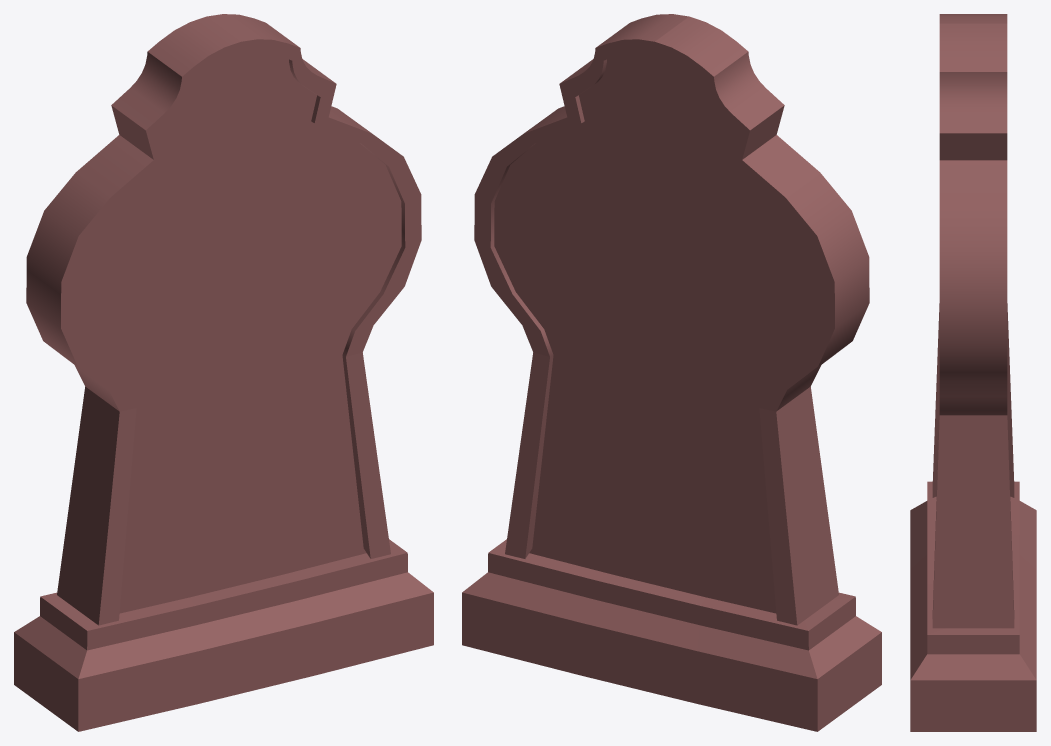
File: MOD_TombStone3.fbx
3 renders of one model, left to right at view 1: azimuth 30°, elevation 25°; view 2: azimuth 150°, elevation 25°; view 3: azimuth 270°, elevation 25°, orthographic. The views are drawn at different scales.
Parts seen in each view (by area): view 1: TombStone_3; view 2: TombStone_3; view 3: TombStone_3.
Boxes of the visible parts, <box> form: TombStone_3: <box>14,14,433,731</box>; TombStone_3: <box>462,14,881,731</box>; TombStone_3: <box>910,14,1036,731</box>.
Bounding box in the file's own units: 302 × 510 × 93.36.
